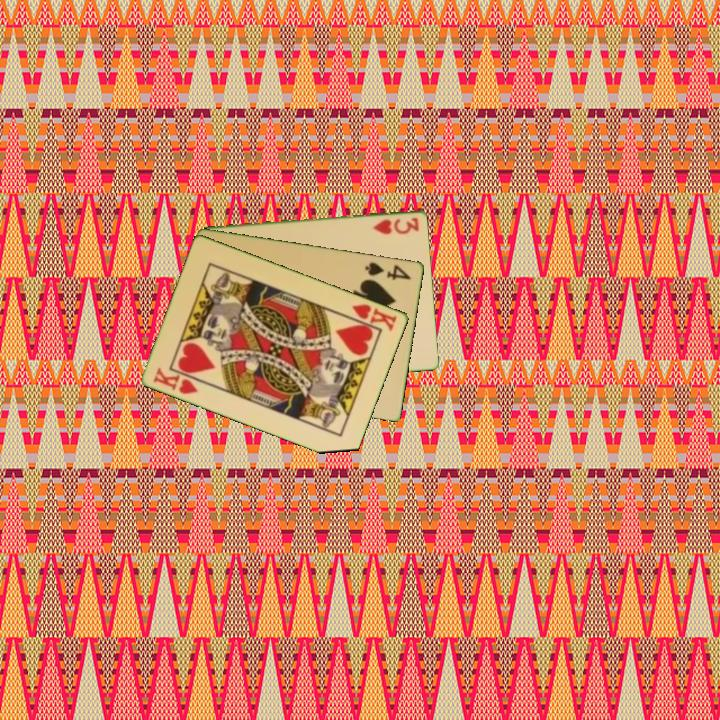3h: (370, 214, 422, 237)
4s: (362, 258, 414, 283)
Kh: (343, 300, 400, 333), (150, 364, 201, 397)
